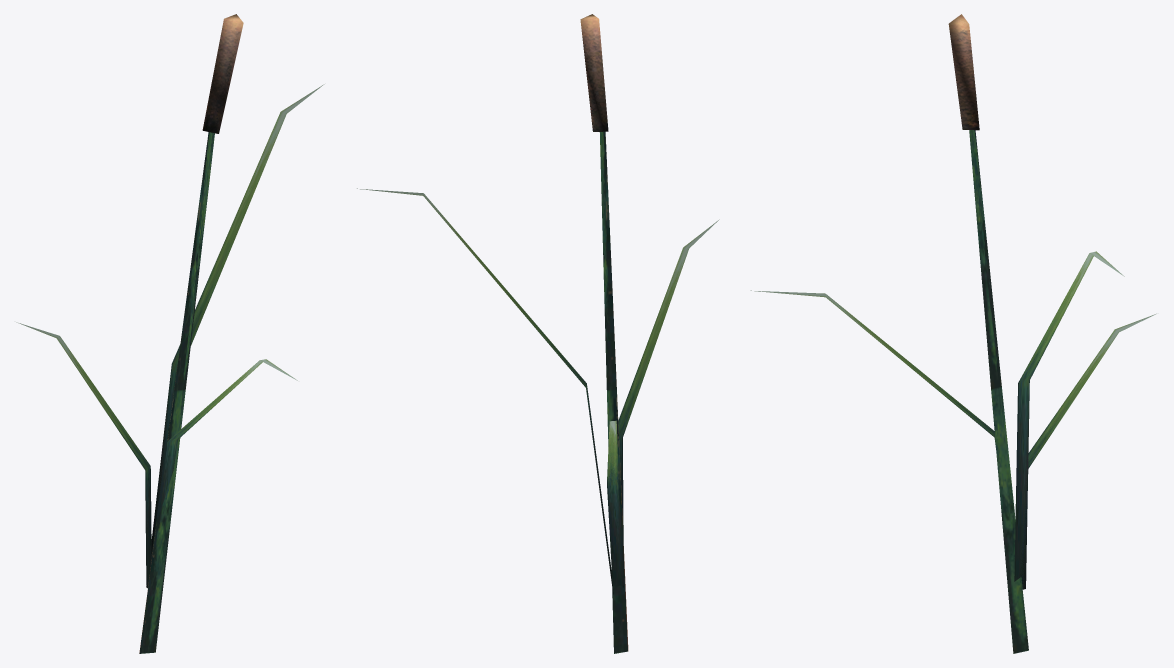
The model's file is swmp_shor_cattail_blue_lg_l1.fbx.
3 views of the same model, side by side, from view 1: azimuth 30°, elevation 25°; view 2: azimuth 150°, elevation 25°; view 3: azimuth 270°, elevation 25° (orthographic). The views are drawn at different scales.
Parts seen in each view (by area): view 1: mesh_node; view 2: mesh_node; view 3: mesh_node.
Part boxes in pixels (x1,y1,x2,y2): mesh_node: (16, 14, 324, 653); mesh_node: (357, 14, 719, 653); mesh_node: (750, 14, 1156, 653).
Bounding box in the file's own units: 1.31 × 2.72 × 1.53.
1 material, 1 textured.
